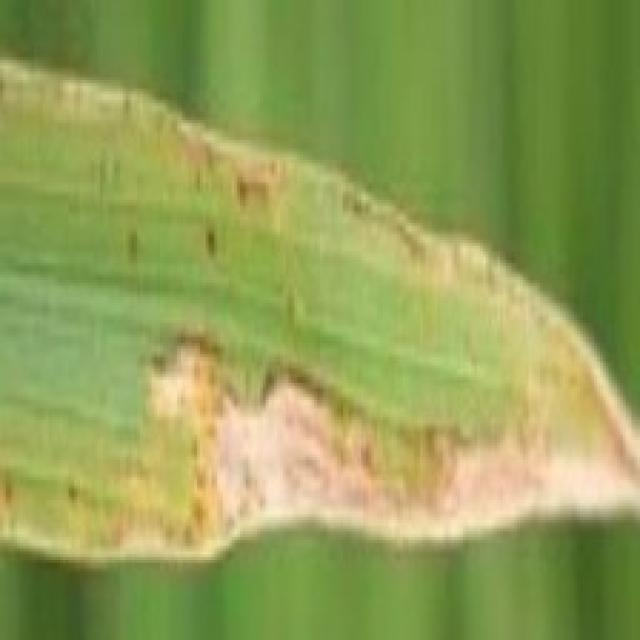Rice___Bacterial_Leaf_Blight: (0, 57, 637, 572)
